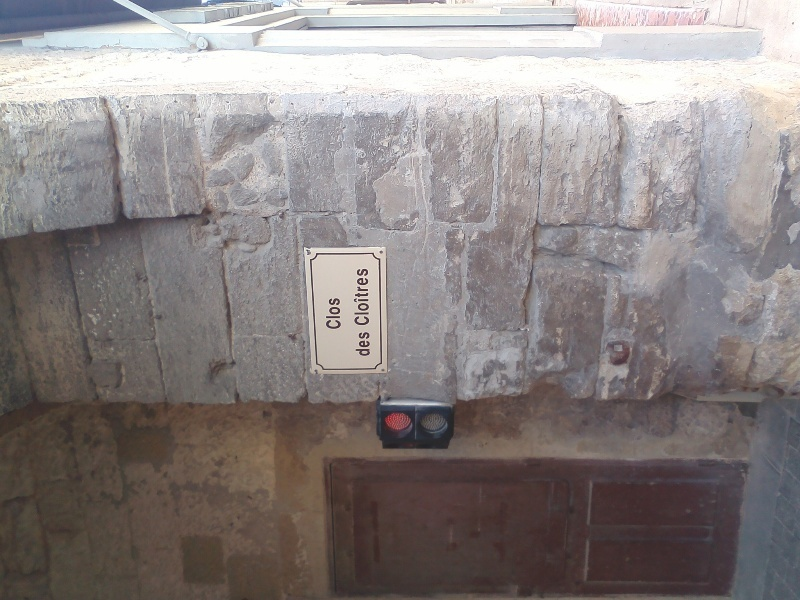text: (353, 268, 368, 326), (323, 297, 336, 330), (355, 331, 368, 357), (337, 297, 342, 330), (369, 331, 372, 357), (369, 268, 370, 326)
